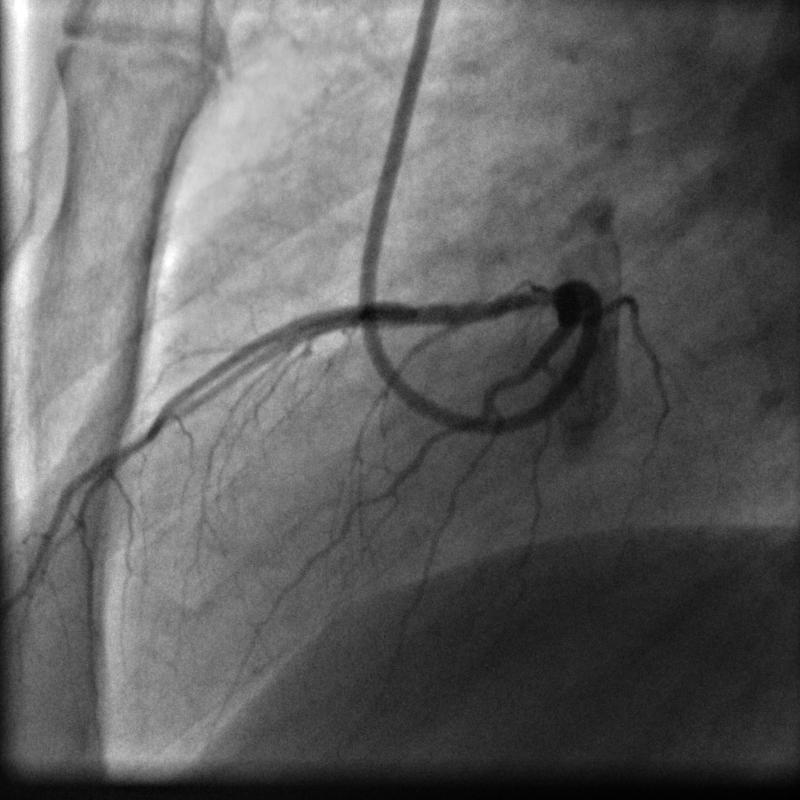Stenosis: (390, 296, 424, 329)
